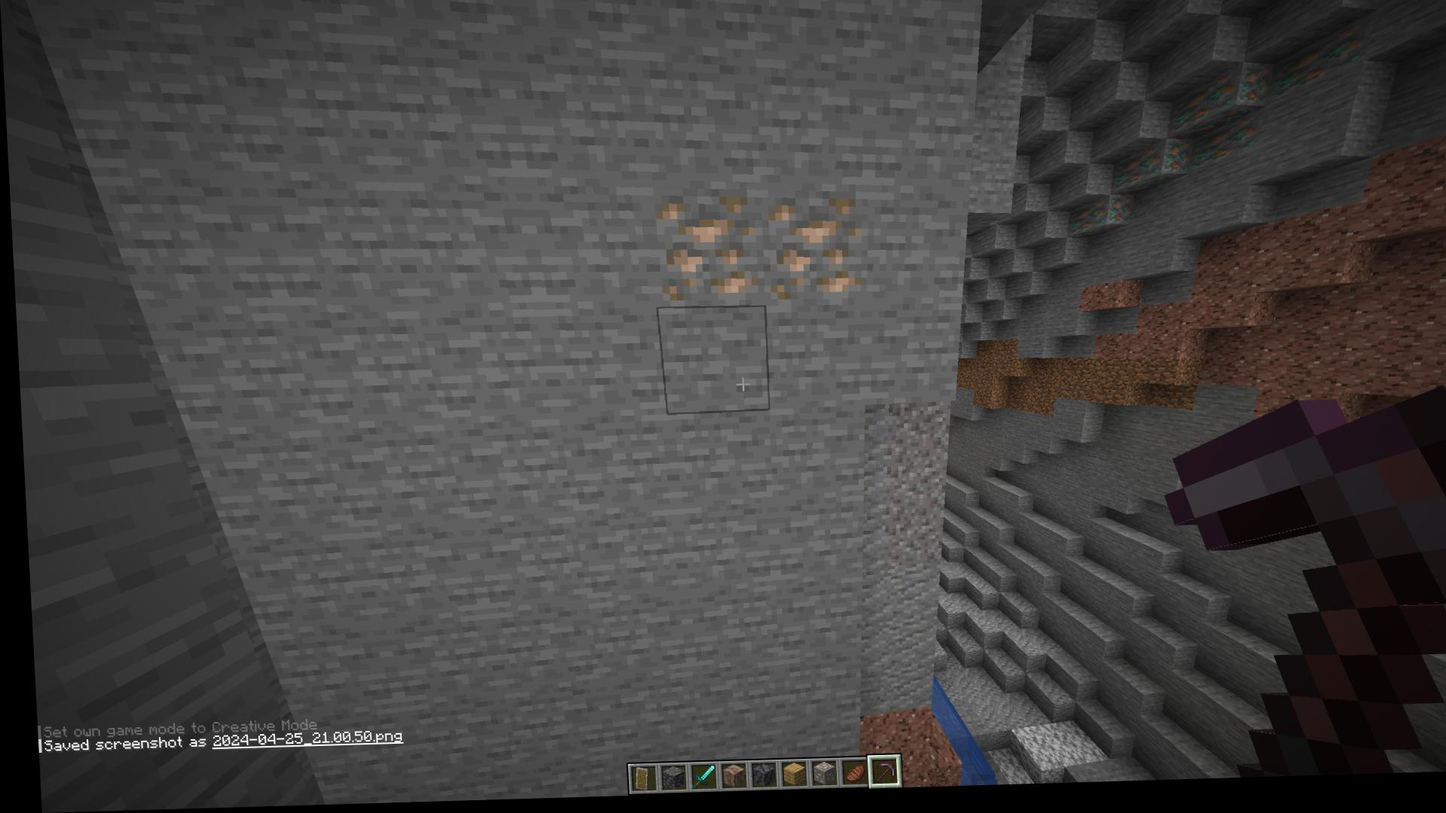iron ore: (653, 191, 762, 312), (758, 201, 864, 308)
